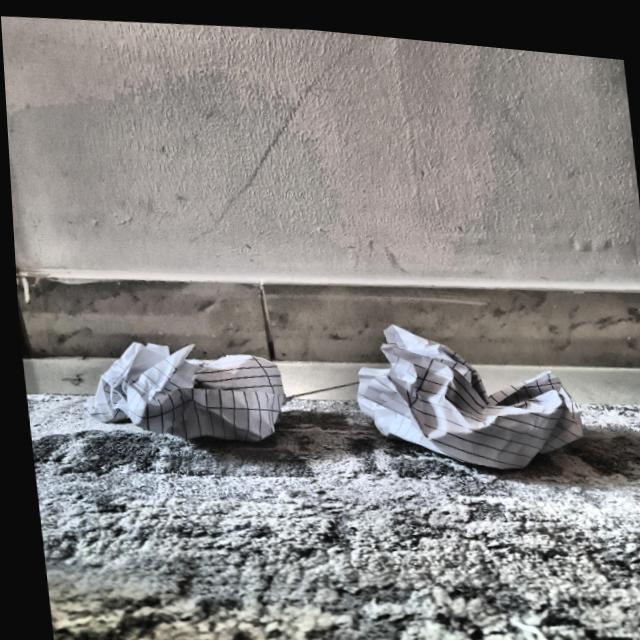Paper: (349, 303, 591, 474), (82, 329, 295, 452)
